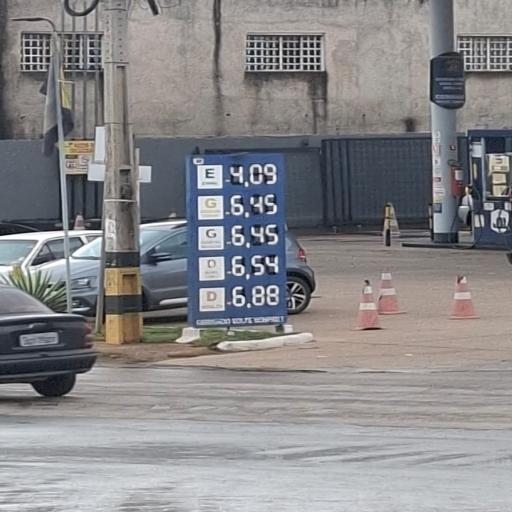ETANOL: (197, 165, 224, 190)
GASOLINA AD: (197, 225, 225, 251)
GASOLINA C: (196, 195, 223, 222)
S10: (198, 287, 226, 311)
S500: (199, 256, 224, 282)
placa: (190, 162, 286, 314)
preco: (228, 191, 281, 219), (230, 221, 281, 250), (230, 252, 281, 280), (232, 283, 282, 309), (230, 164, 280, 187)
